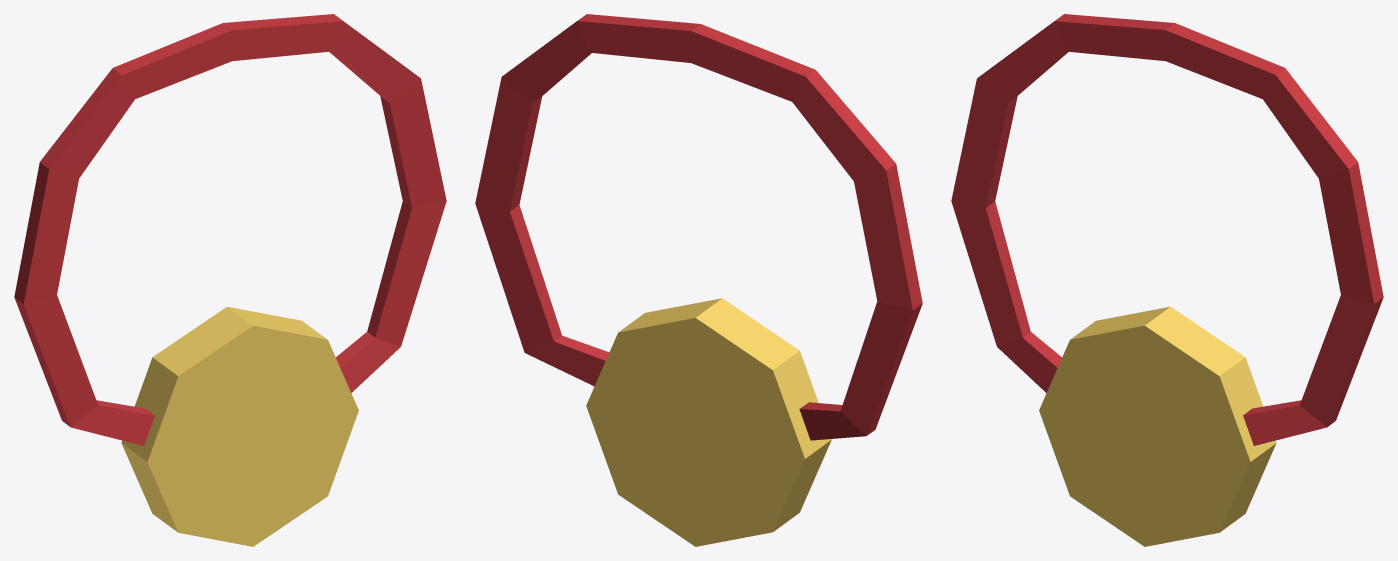
The model's file is medal.fbx.
3 views of the same model, side by side, from view 1: azimuth 30°, elevation 25°; view 2: azimuth 150°, elevation 25°; view 3: azimuth 330°, elevation 25° (orthographic). The views are drawn at different scales.
Parts seen in each view (by area): view 1: Cylinder.026; view 2: Cylinder.026; view 3: Cylinder.026.
Part boxes in pixels (x1=…): Cylinder.026: x1=14, y1=14, x2=446, y2=546; Cylinder.026: x1=475, y1=14, x2=922, y2=546; Cylinder.026: x1=951, y1=14, x2=1383, y2=546.
Size of the model in its own units: 30.7 by 34.79 by 3.82.
